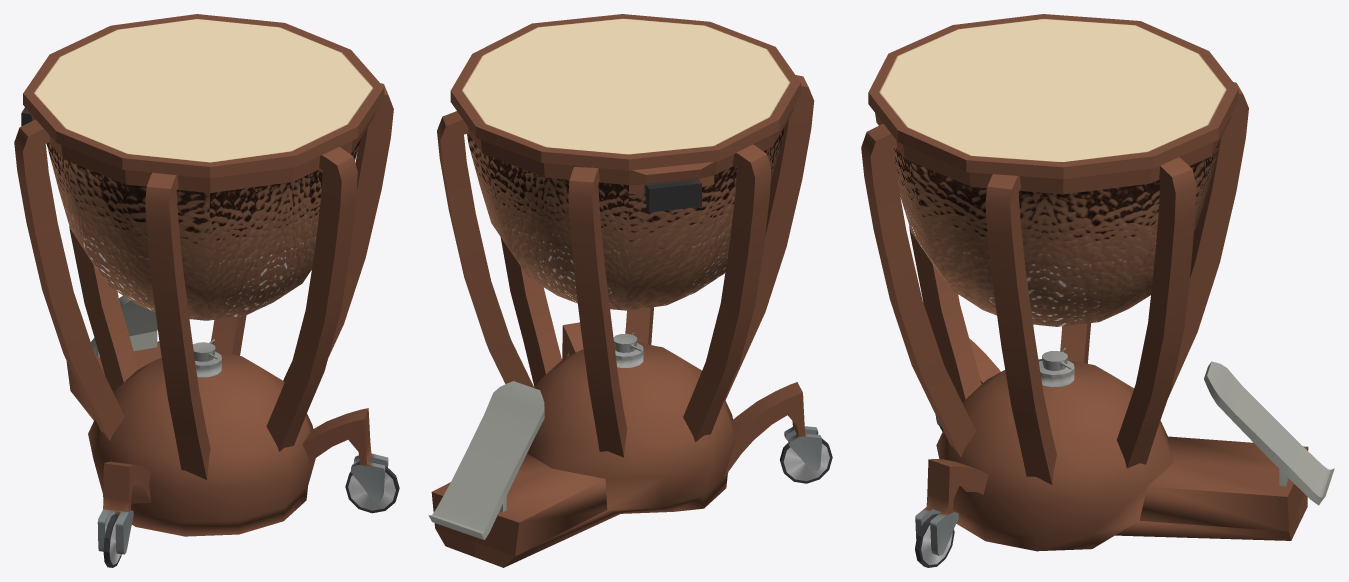
The picture shows the model from 3 angles, left to right: view 1: azimuth 30°, elevation 25°; view 2: azimuth 150°, elevation 25°; view 3: azimuth 270°, elevation 25°; orthographic projection. The views are drawn at different scales.
Visible parts, largest first — view 1: SM_Drum; view 2: SM_Drum; view 3: SM_Drum.
Part boxes in pixels (x1,y1,x2,y2): SM_Drum: (14,14,399,567); SM_Drum: (428,14,832,567); SM_Drum: (861,14,1334,567).
Bounding box in the file's own units: 4.85 × 5.72 × 5.85.
Materials: 1 (1 with a texture image).
